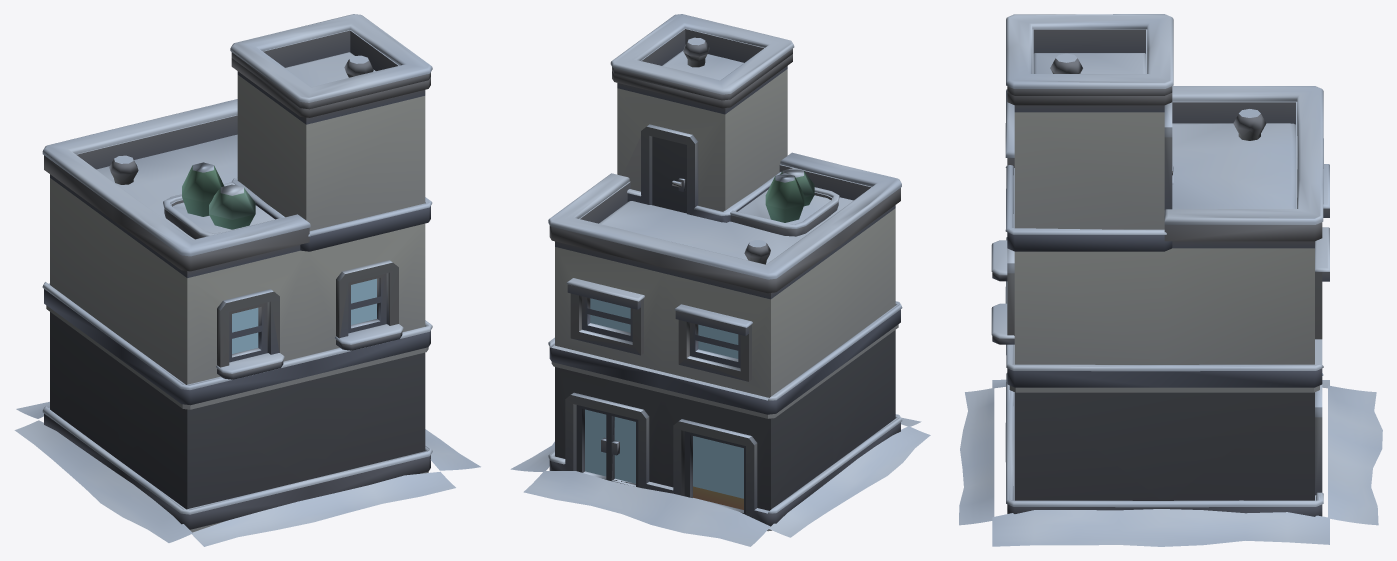
Rendered from bldg_d.glb.
3 renders of one model, left to right at view 1: azimuth 30°, elevation 25°; view 2: azimuth 150°, elevation 25°; view 3: azimuth 270°, elevation 25°, orthographic. The views are drawn at different scales.
Parts seen in each view (by area): view 1: Base, Roof; view 2: Base, Roof; view 3: Base, Roof.
Boxes of the visible parts, x1=… form: Base: x1=14, y1=37, x2=480, y2=546; Roof: x1=230, y1=14, x2=432, y2=109; Base: x1=510, y1=35, x2=930, y2=546; Roof: x1=610, y1=14, x2=794, y2=100; Base: x1=959, y1=37, x2=1382, y2=546; Roof: x1=1006, y1=14, x2=1173, y2=95.
Size of what is drawn, in the model's own units: 10.33 by 12.48 by 10.73.
